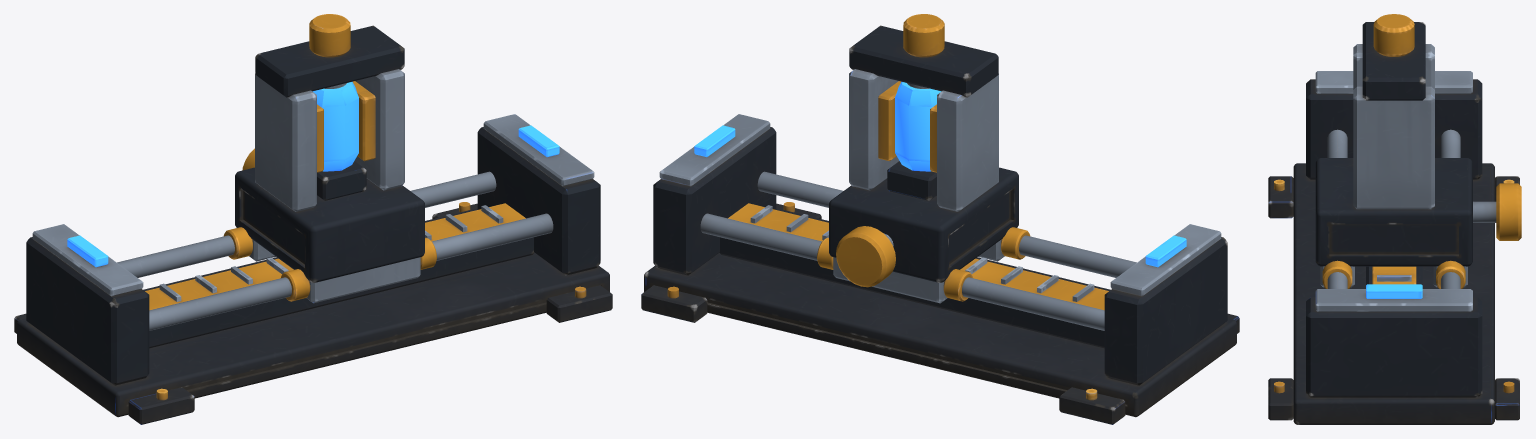
Rendered from anchor_caliper.glb.
3 views of the same model, side by side, from view 1: azimuth 30°, elevation 25°; view 2: azimuth 150°, elevation 25°; view 3: azimuth 270°, elevation 25° (orthographic).
Visible parts, largest first — view 1: Batch_0, Batch_1; view 2: Batch_0, Batch_1; view 3: Batch_0, Batch_1.
Part boxes in pixels (box(x1,y1,x2,y2)): Batch_0: box(14, 14, 612, 424); Batch_1: box(67, 81, 559, 267); Batch_0: box(641, 14, 1239, 424); Batch_1: box(694, 81, 1186, 267); Batch_0: box(1268, 14, 1521, 424); Batch_1: box(1366, 284, 1422, 298).
Bounding box in the file's own units: 1.8 × 1.03 × 0.805.
2 materials, 2 textured.
